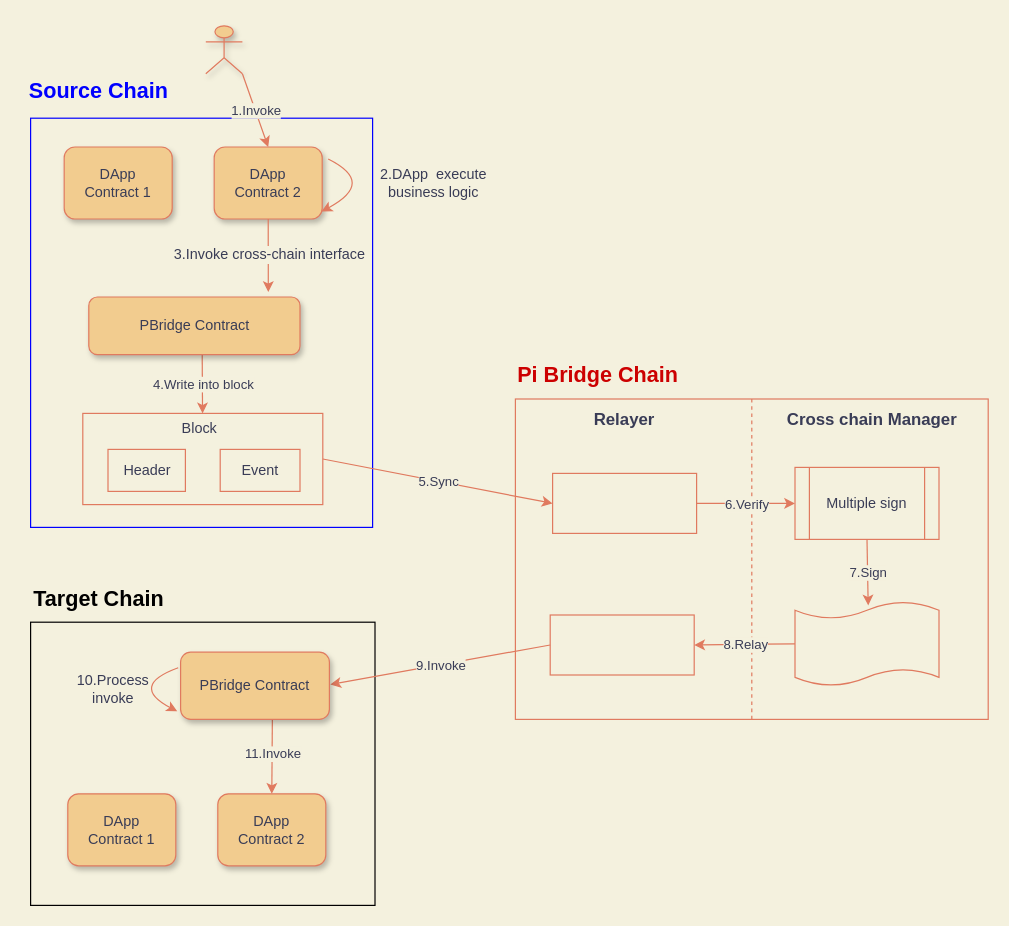
This 1009x926 diagram has some shape labels left out. Each missing label, with the centre of its shape:
"Cross chain transaction" belongs at point (866, 643).
"Header sync" belongs at point (624, 502).
"Relay transaction" belongs at point (621, 644).
"User" belongs at point (225, 51).
